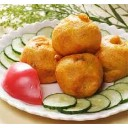bonda: (55, 55, 102, 96), (58, 15, 101, 54), (22, 34, 55, 83), (96, 37, 128, 82)
